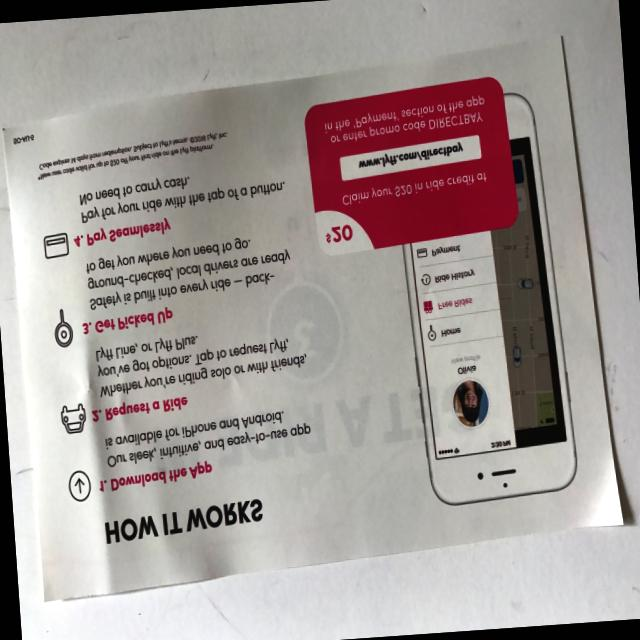Paper: (0, 25, 630, 608)
